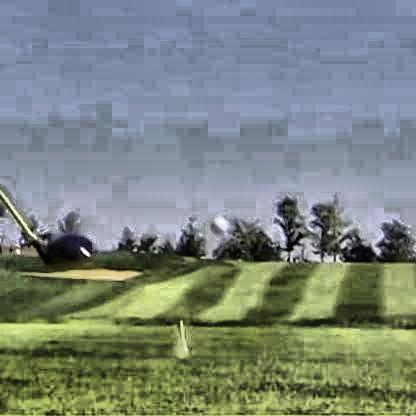golfball: (206, 212, 224, 233)
